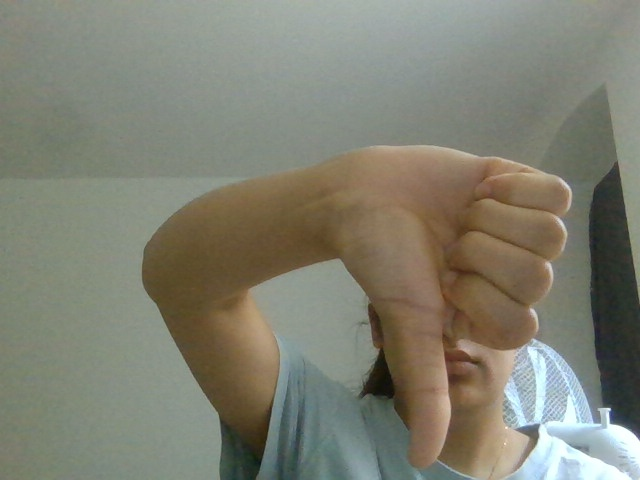Thumbs down: (317, 107, 582, 467)
